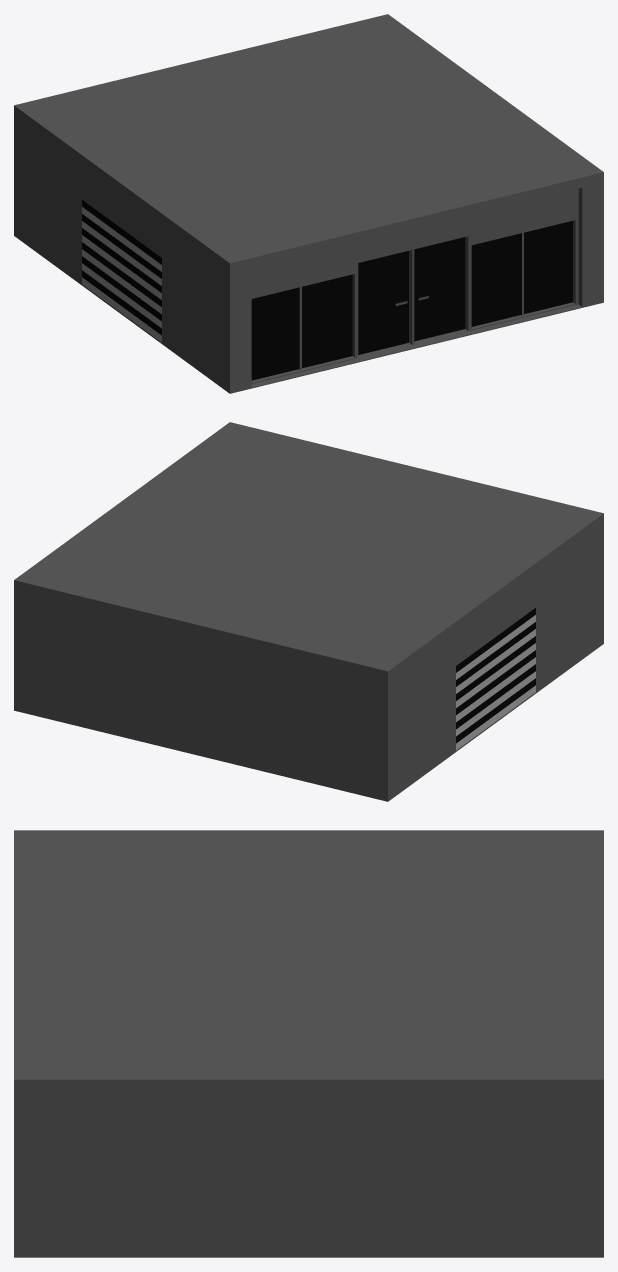
File: 30x30x10Bas.fbx
3 renders of one model, top to bottom at view 1: azimuth 30°, elevation 25°; view 2: azimuth 150°, elevation 25°; view 3: azimuth 270°, elevation 25°, orthographic. The views are drawn at different scales.
Visible parts, largest first — view 1: Cube.204; view 2: Cube.204; view 3: Cube.204.
Part boxes in pixels (x1,y1,x2,y2): Cube.204: (14,14,603,393); Cube.204: (14,422,603,801); Cube.204: (14,830,603,1257).
Bounding box in the file's own units: 3000 × 1000 × 3000.
